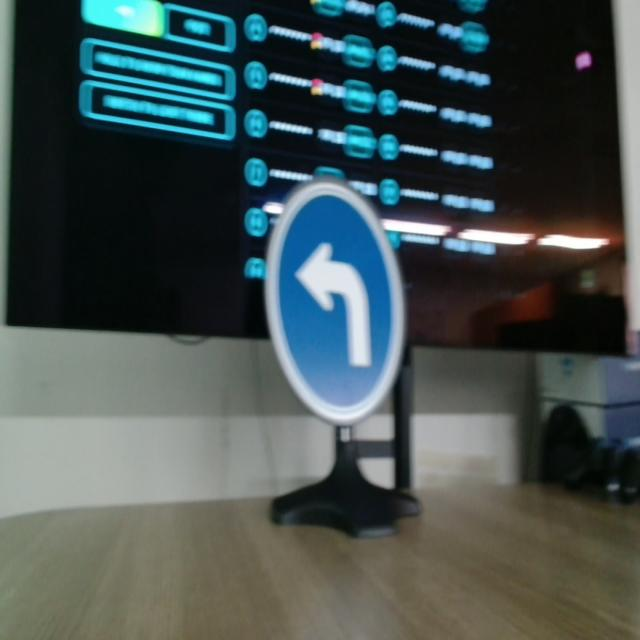left_direction: (264, 166, 405, 433)
